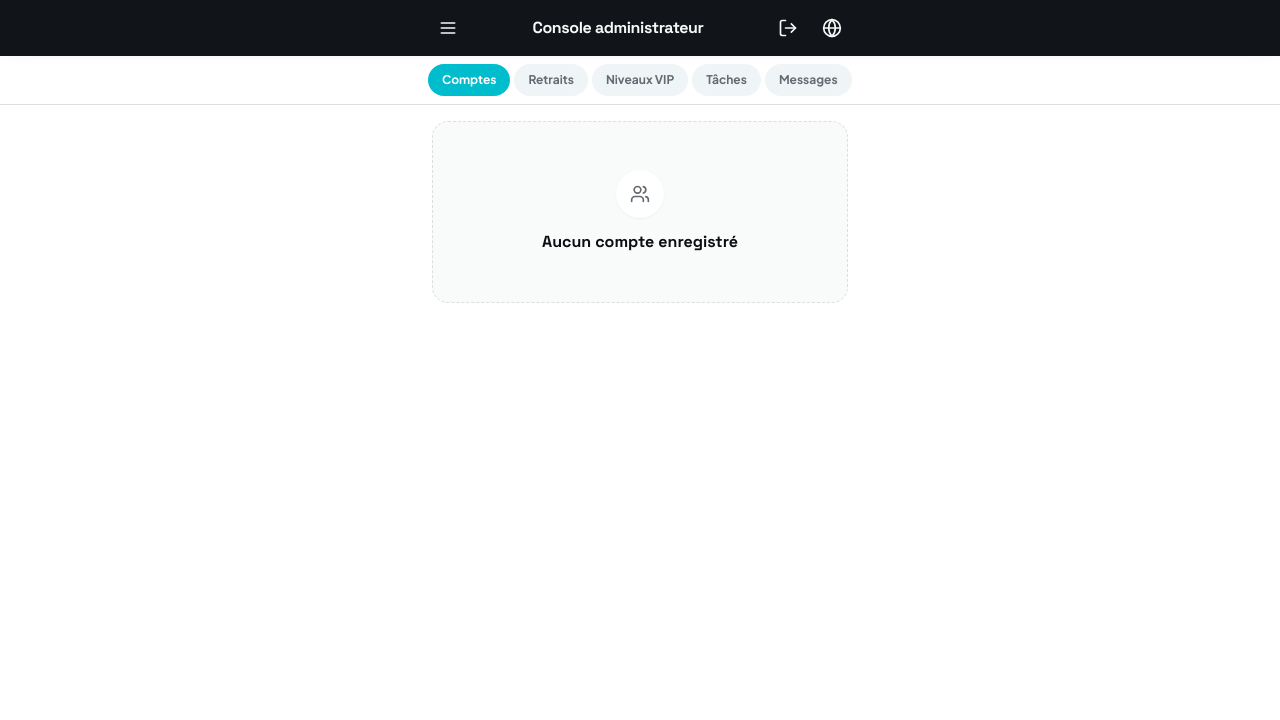
Scenario: AdminPage navigation and tasks › switches between the five console tabs
Expected: the element with test id "admin.accounts_panel" is shown, [432, 121, 848, 303]
What coordinates should you click on to do the following:
click the button with test id "admin.tab.tasks"
I would click on:
 (727, 80)
Its box is [692, 64, 761, 96].
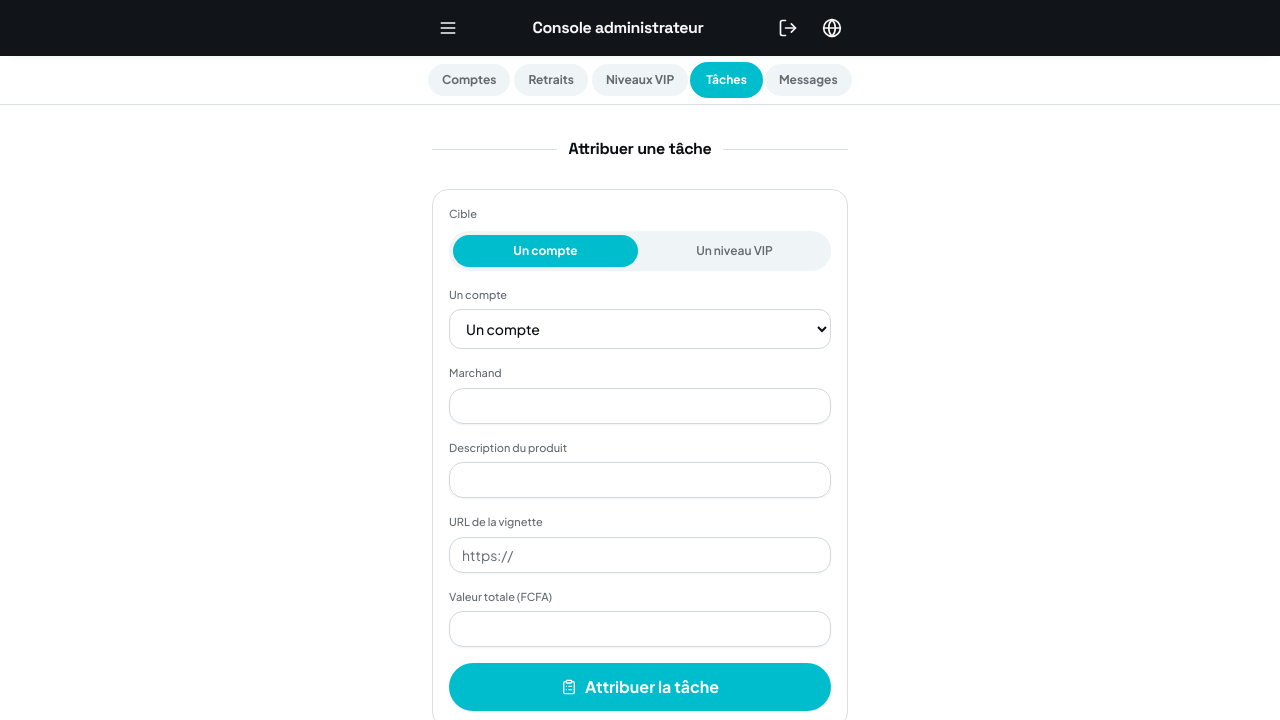
What coordinates should you click on to do the following:
click the button with test id "admin.tab.vip"
I would click on:
 (640, 80)
Its box is [592, 64, 688, 96].
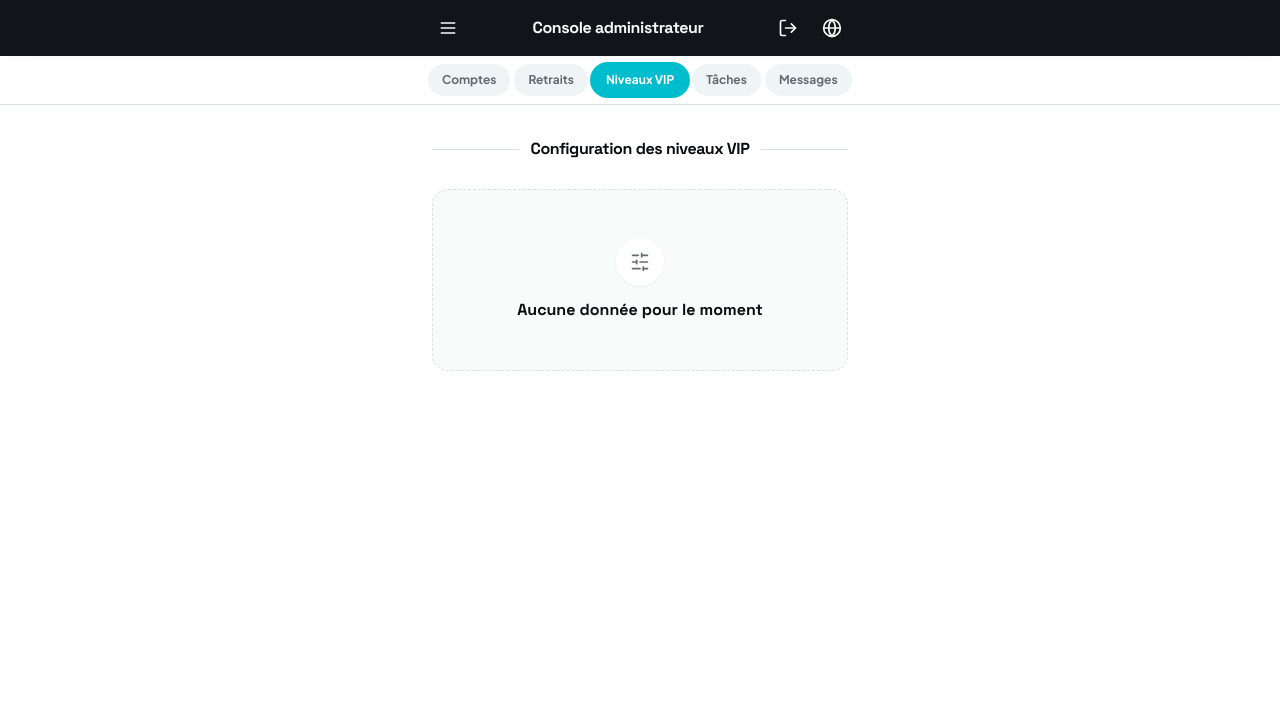
Expected: the element with test id "admin.vip_panel" is shown, [432, 121, 848, 371]
What coordinates should you click on to do the following:
click the button with test id "admin.tab.withdrawals"
I would click on:
 (551, 80)
Its box is [514, 64, 588, 96].
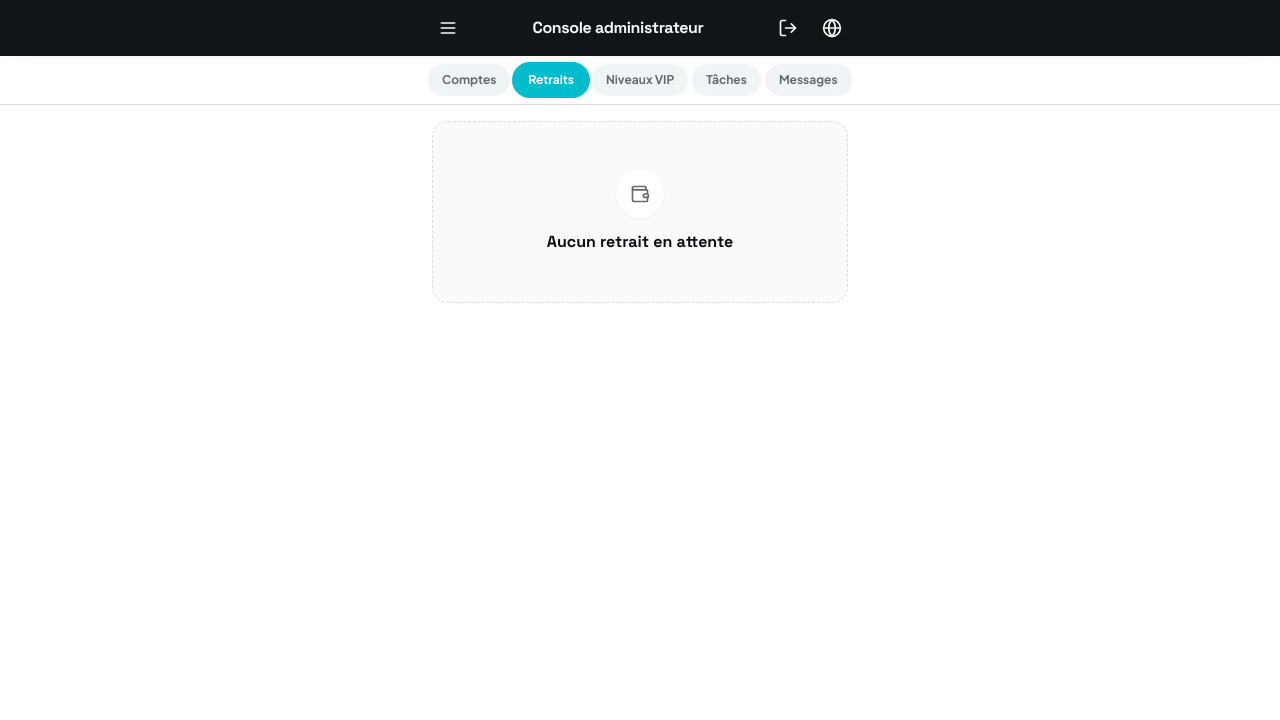
Expected: the element with test id "admin.withdrawals_panel" is shown, [432, 121, 848, 303]
What coordinates should you click on to do the following:
click the button with test id "admin.tab.inbox"
I would click on:
 (808, 80)
Its box is [765, 64, 852, 96].
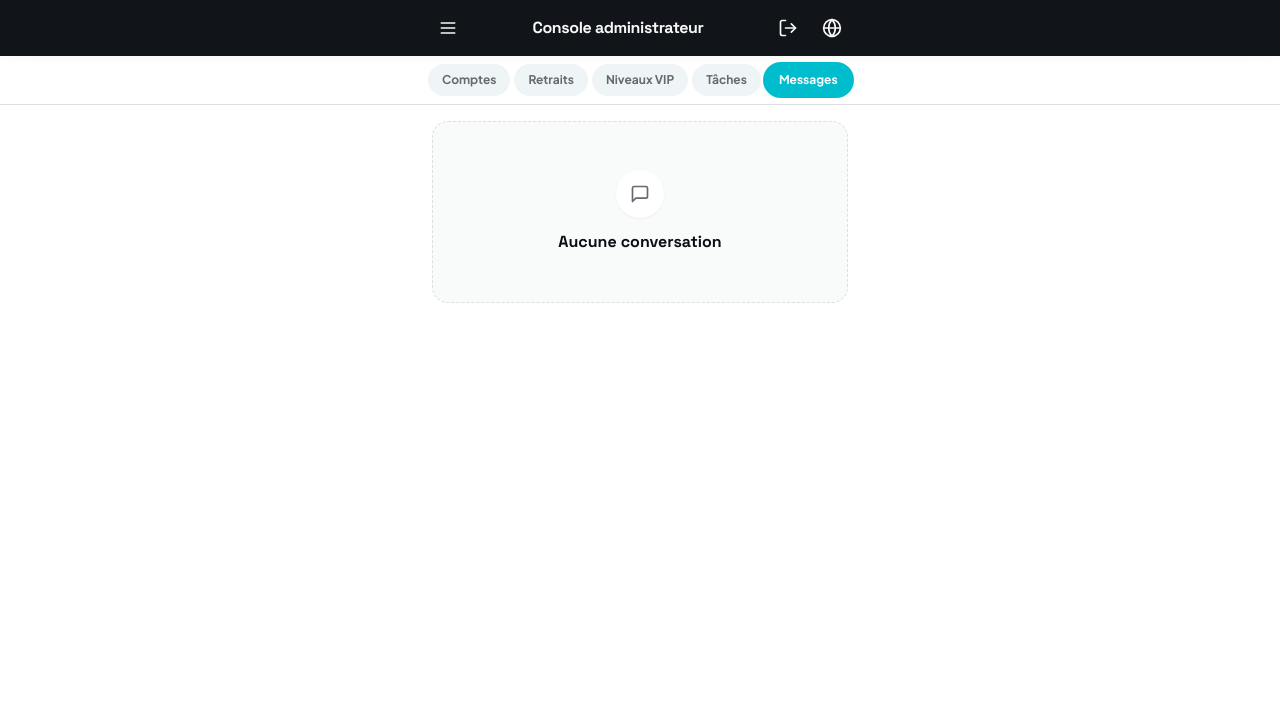
Expected: the element with test id "admin.inbox_panel" is shown, [432, 121, 848, 303]
